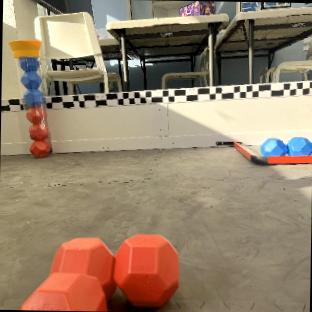Parking-R: (216, 141, 311, 164)
V5_BLUE: (20, 57, 47, 143), (250, 137, 312, 162)
V5_RED: (19, 234, 178, 311), (26, 107, 49, 156)
